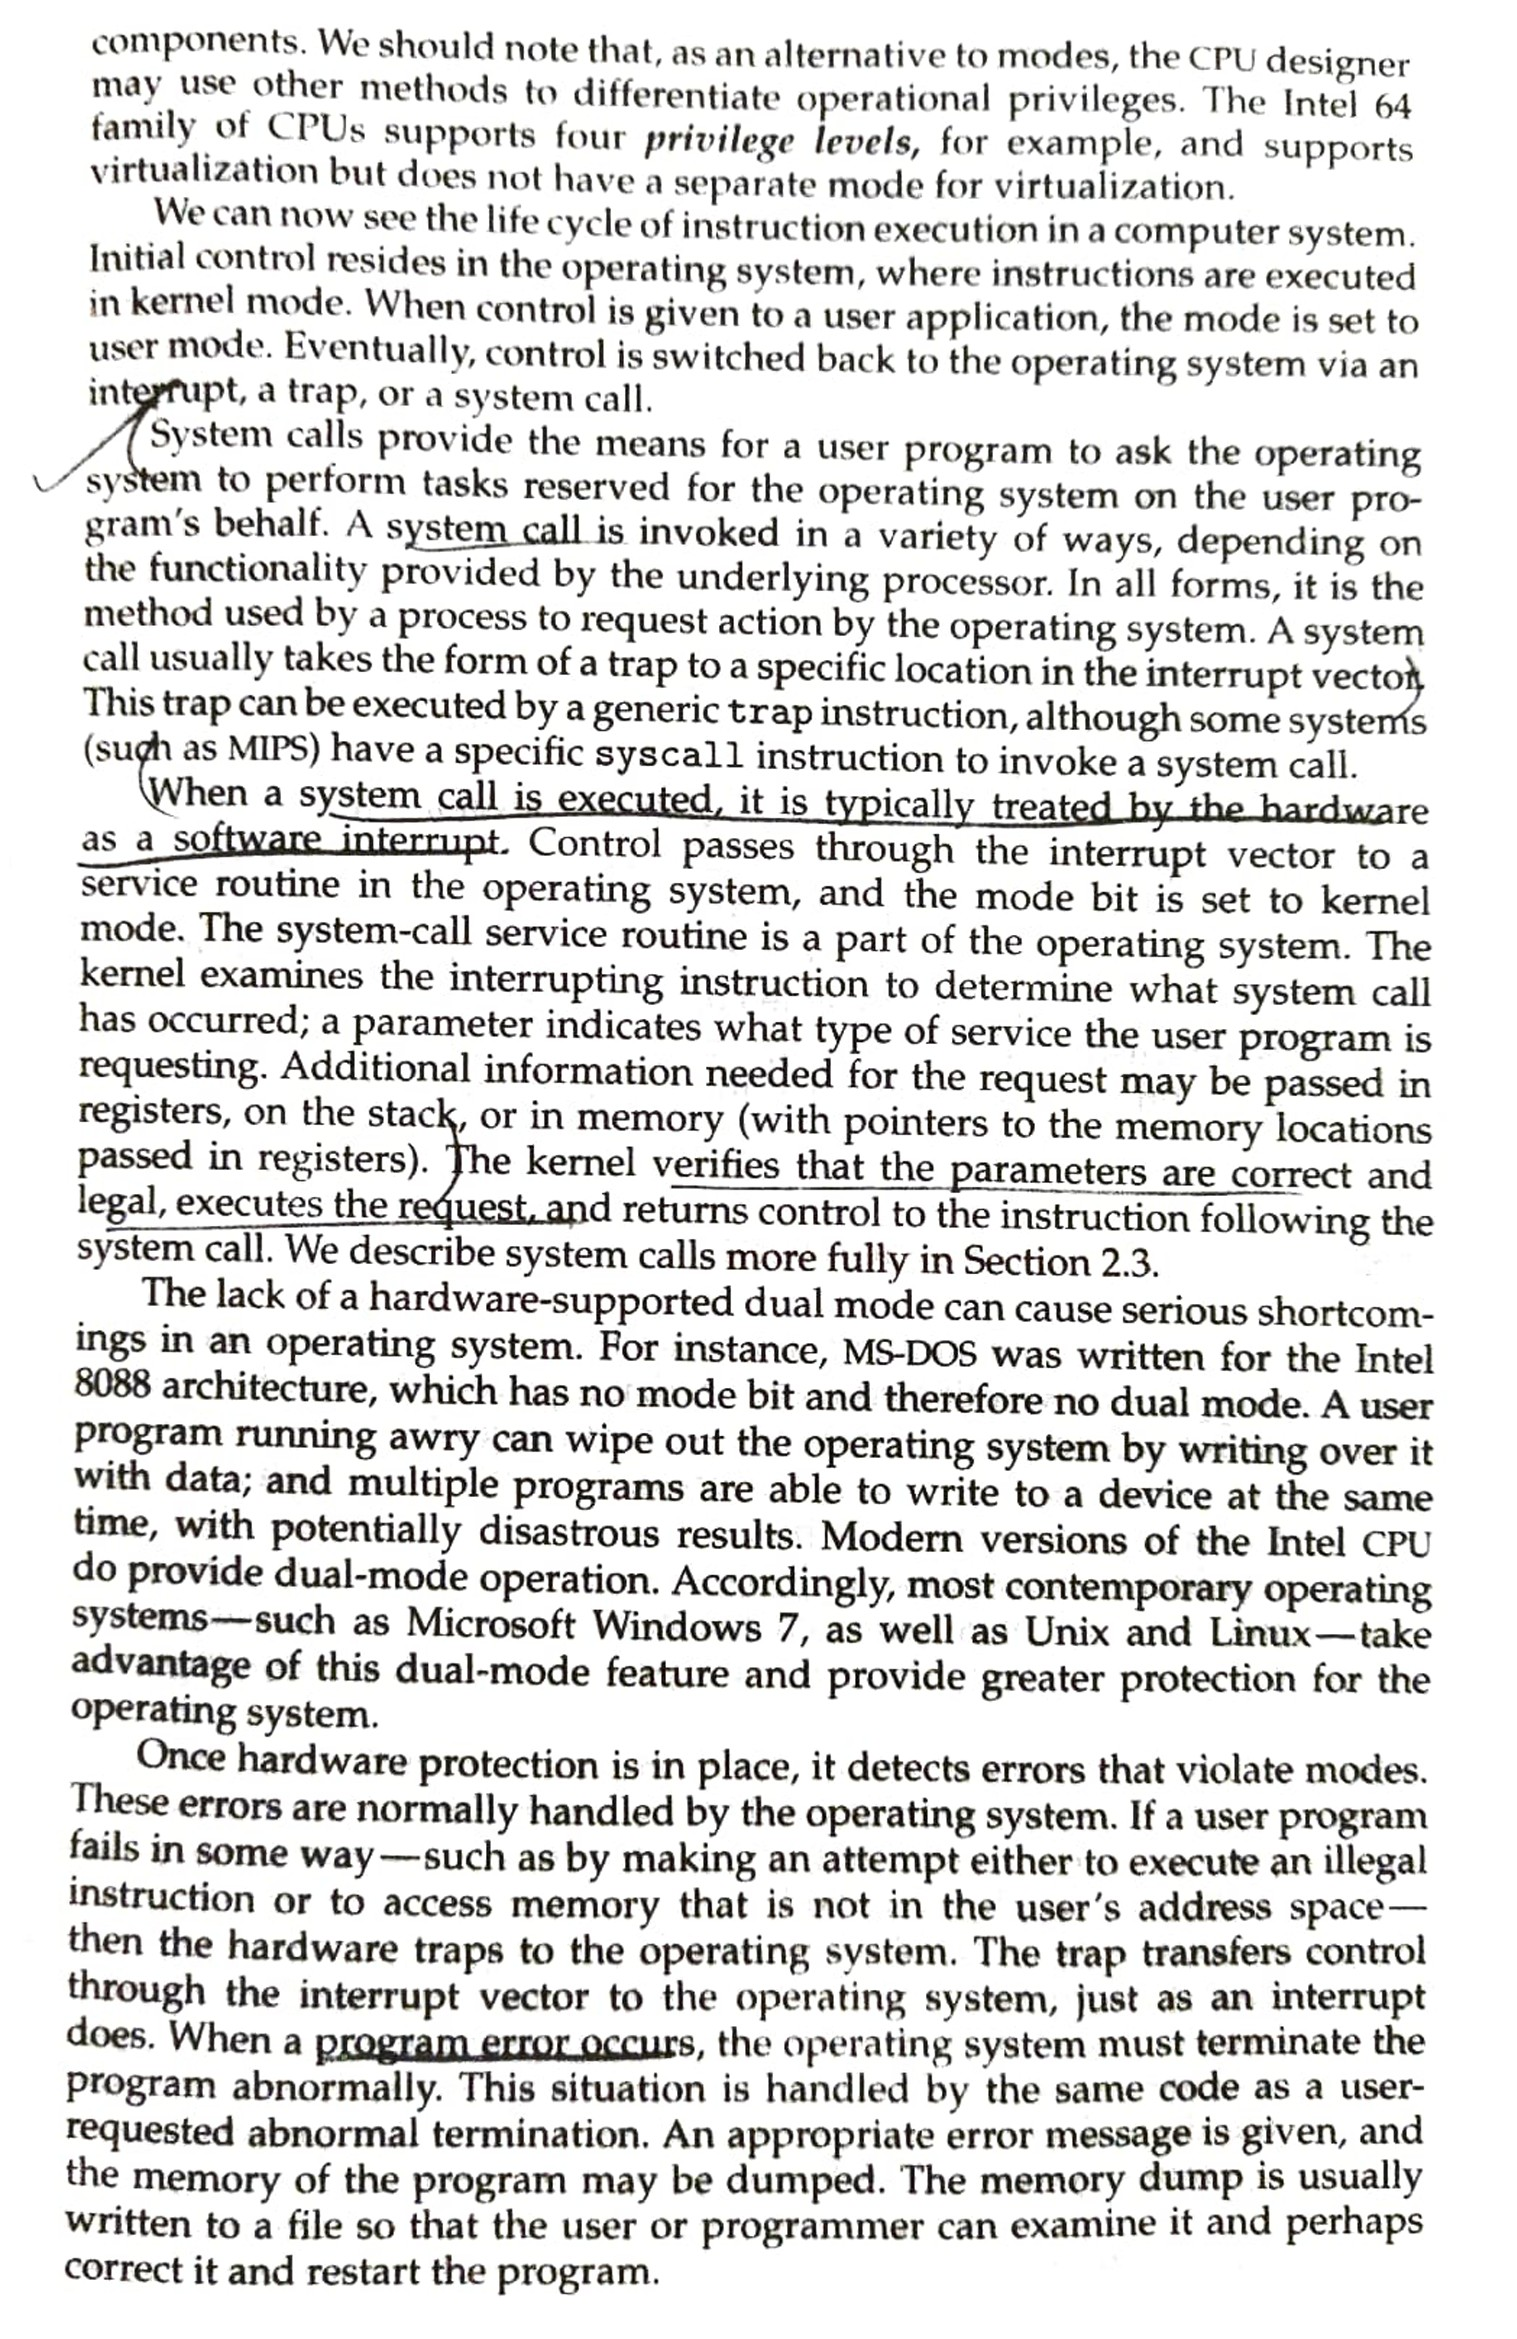BB1: (58, 19, 1483, 419)
BB2: (61, 407, 1503, 789)
BB3: (58, 772, 1476, 1284)
BB4: (55, 1273, 1476, 1737)
BB5: (48, 1737, 1476, 2301)
